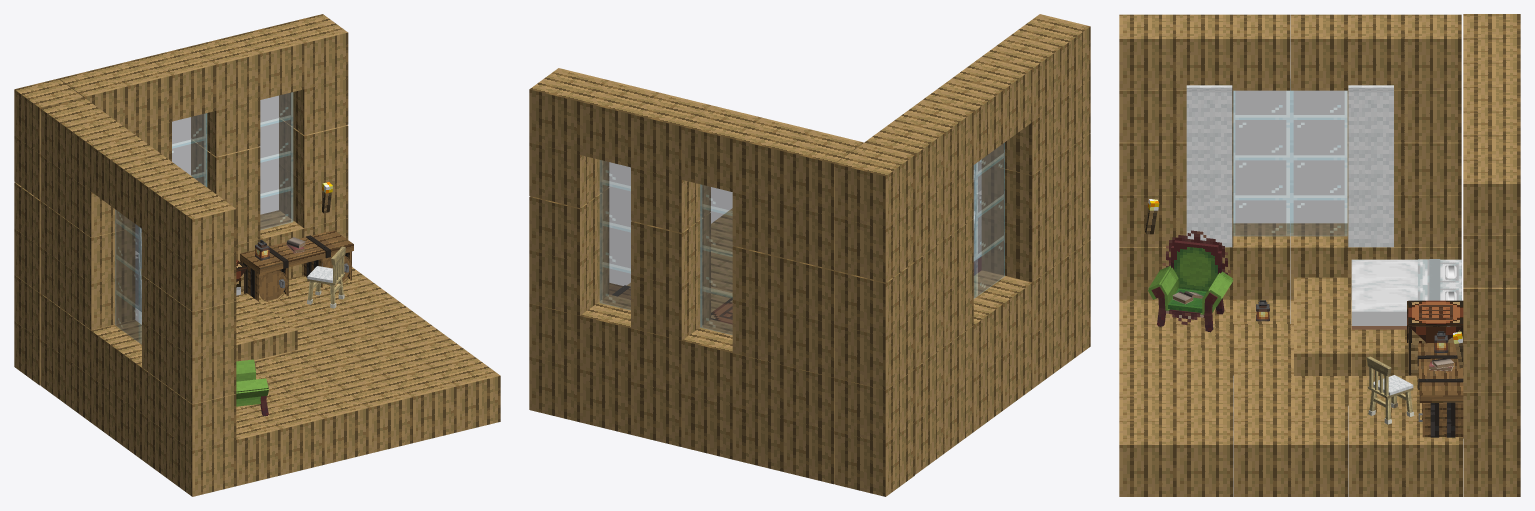
3 views of the same model, side by side, from view 1: azimuth 30°, elevation 25°; view 2: azimuth 150°, elevation 25°; view 3: azimuth 270°, elevation 25° (orthographic). The views are drawn at different scales.
Visible parts, largest first — view 1: object 167, Oak_Planks_4.111, Oak_Planks_4.052, Oak_Planks_4.087, Oak_Planks_4.088, Oak_Planks_4.076, Oak_Planks_4.100, Oak_Planks_4.099, Oak_Planks_4.091, Oak_Planks_4.096, Oak_Planks_4.009, Oak_Planks_4.072 (+68 smaller); view 2: Oak_Planks_4.112, object 171, object 167, Oak_Planks_4.115, Oak_Planks_4.052, Oak_Planks_4.054, Oak_Planks_4.116, Oak_Planks_4.089, Oak_Planks_4.113, Oak_Planks_4.114, Oak_Planks_4.117, Oak_Planks_4.061 (+58 smaller); view 3: object 150, Oak_Planks_4.075, Oak_Planks_4.106, Oak_Planks_4.107, Oak_Planks_4.083, Oak_Planks_4.109, Oak_Planks_4.011, Oak_Planks_4.014, Oak_Planks_4.021, Oak_Planks_4.111, Oak_Planks_4.035, Oak_Planks_4.024 (+68 smaller).
Part boxes in pixels (x1,y1,x2,y2): object 167: (206, 92, 293, 229); Oak_Planks_4.111: (167, 190, 236, 265); Oak_Planks_4.052: (279, 118, 348, 182); Oak_Planks_4.087: (167, 386, 236, 450); Oak_Planks_4.088: (167, 294, 236, 358); Oak_Planks_4.076: (167, 432, 236, 496); Oak_Planks_4.100: (167, 247, 236, 311); Oak_Planks_4.099: (167, 340, 236, 404); Oak_Planks_4.091: (66, 219, 134, 283); Oak_Planks_4.096: (66, 266, 134, 330); Oak_Planks_4.009: (343, 378, 412, 453); Oak_Planks_4.072: (147, 46, 216, 121); Oak_Planks_4.112: (835, 142, 914, 229); object 171: (700, 184, 733, 334); object 167: (599, 160, 701, 326); Oak_Planks_4.115: (835, 262, 914, 336); Oak_Planks_4.052: (529, 188, 608, 262); Oak_Planks_4.054: (631, 212, 710, 287); Oak_Planks_4.116: (835, 369, 914, 443); Oak_Planks_4.089: (982, 155, 1061, 228); Oak_Planks_4.113: (835, 208, 914, 282); Oak_Planks_4.114: (835, 316, 914, 390); Oak_Planks_4.117: (835, 422, 914, 496); Oak_Planks_4.061: (631, 266, 710, 340); object 150: (1233, 79, 1347, 236); Oak_Planks_4.075: (1463, 159, 1520, 235); Oak_Planks_4.106: (1290, 14, 1347, 90); Oak_Planks_4.107: (1233, 14, 1290, 90); Oak_Planks_4.083: (1233, 223, 1290, 299); Oak_Planks_4.109: (1404, 14, 1461, 90); Oak_Planks_4.011: (1119, 421, 1176, 496); Oak_Planks_4.014: (1176, 421, 1233, 496); Oak_Planks_4.021: (1291, 421, 1348, 496); Oak_Planks_4.111: (1119, 14, 1176, 90); Oak_Planks_4.035: (1348, 421, 1405, 496); Oak_Planks_4.024: (1234, 421, 1291, 496).
Size of the model in its own units: 14.04 by 12.06 by 14.01.
137 materials, 137 textured.
